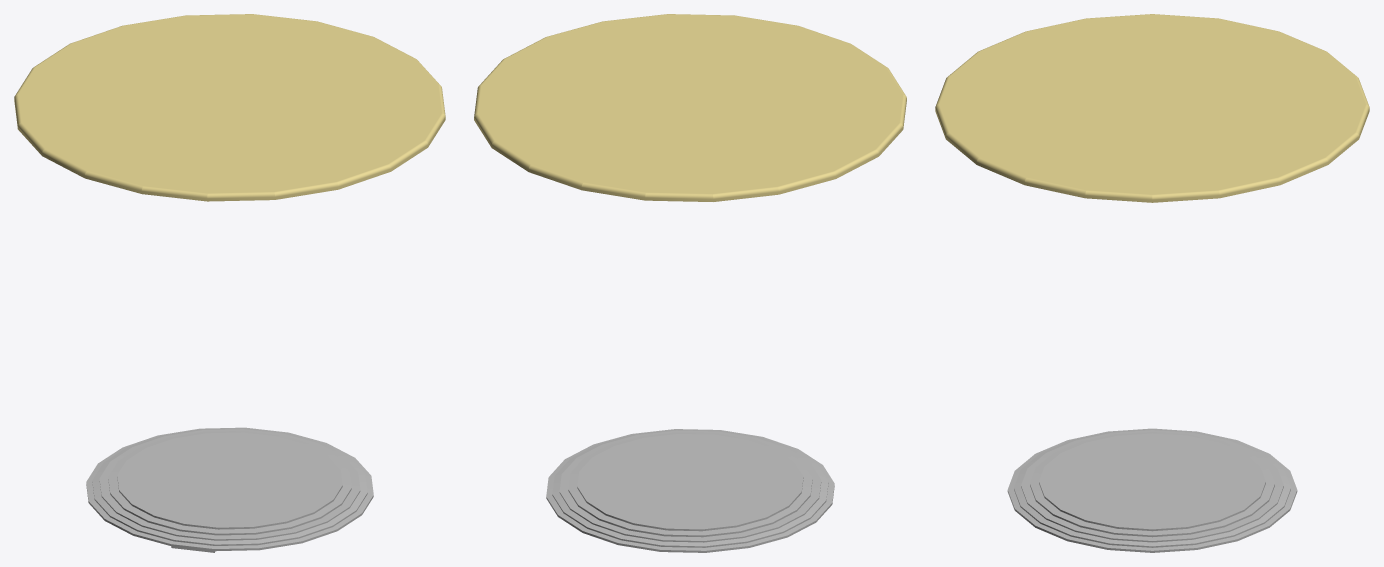
File: staantafel.fbx
3 views of the same model, side by side, from view 1: azimuth 30°, elevation 25°; view 2: azimuth 150°, elevation 25°; view 3: azimuth 270°, elevation 25° (orthographic).
Parts seen in each view (by area): view 1: pCylinder3, pCylinder1; view 2: pCylinder3, pCylinder1; view 3: pCylinder3, pCylinder1.
Boxes of the visible parts, x1,y1,x2,y2 form: pCylinder3: (14, 14, 445, 201); pCylinder1: (86, 427, 373, 552); pCylinder3: (474, 14, 906, 201); pCylinder1: (546, 429, 834, 552); pCylinder3: (935, 14, 1369, 202); pCylinder1: (1007, 428, 1297, 552).
Bounding box in the file's own units: 12 × 11.88 × 12.
